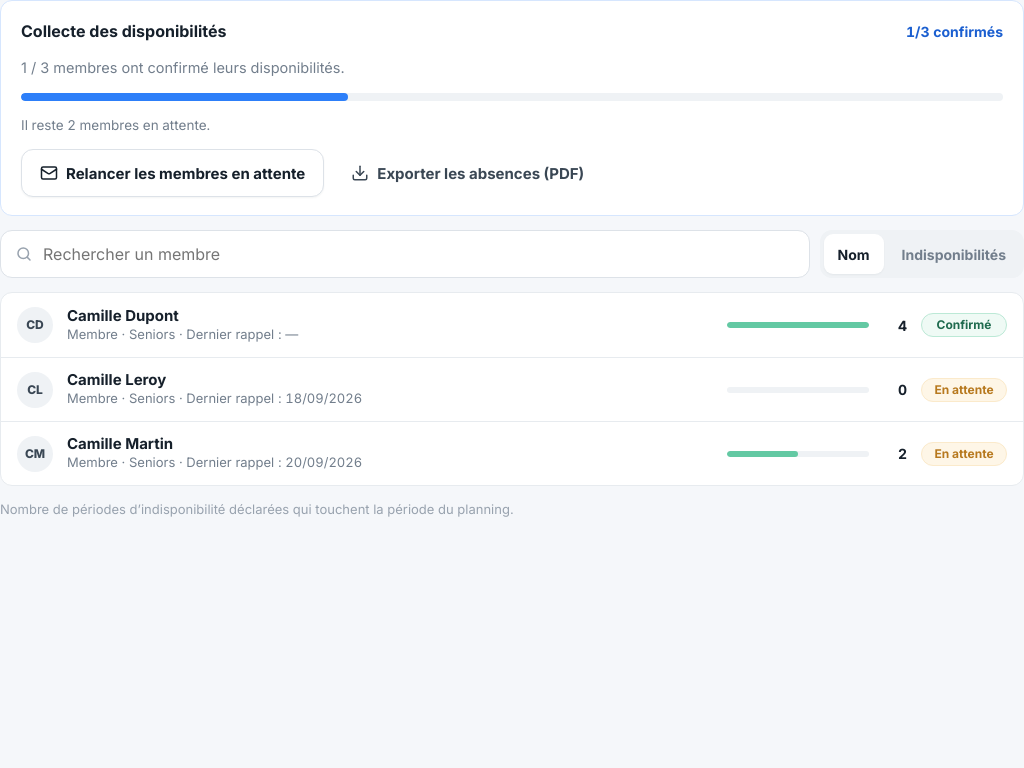
Test: CollectionStatusPanel — member drawer › opens on a click, shows identity, collection state and the period unavailabilities, and closes
This screenshot has width=1024, height=768.
Click the button "Camille Dupont": (123, 315) [67, 306, 179, 325]
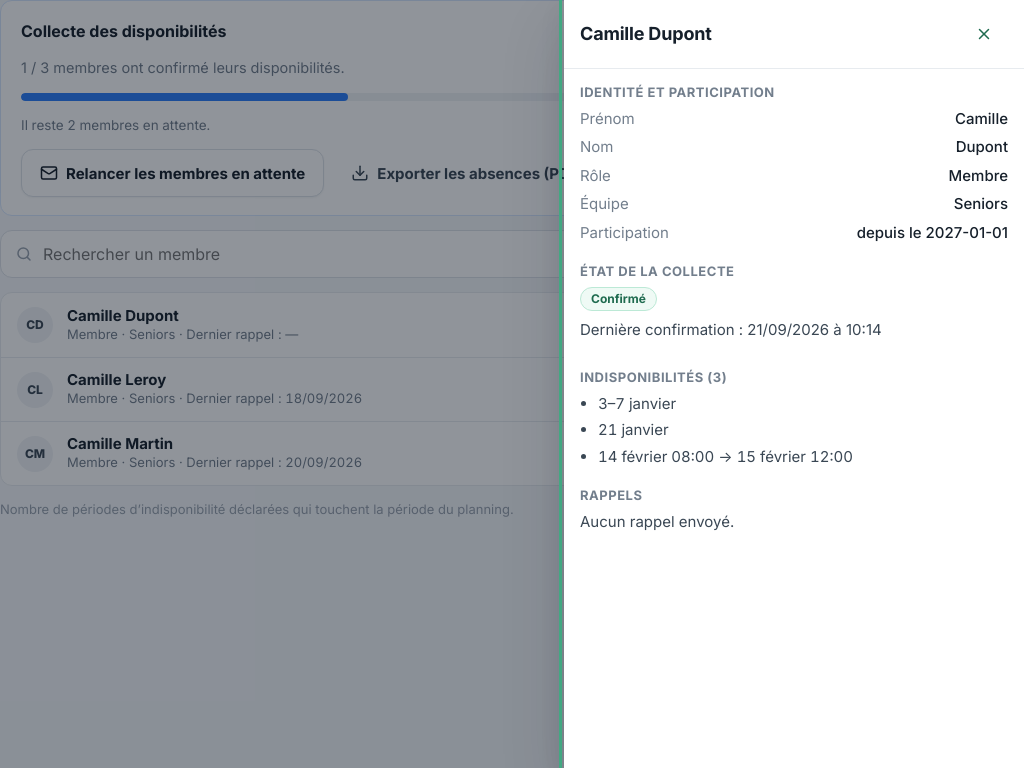
Result: the heading "Indisponibilités (3)" is shown at [580, 369, 727, 385]
Result: the text "Membre" is shown at [949, 165, 1008, 187]
Result: the text "Seniors" is shown at [954, 193, 1008, 216]
Click the button named "Fermer le panneau": (984, 34) [960, 14, 1008, 54]
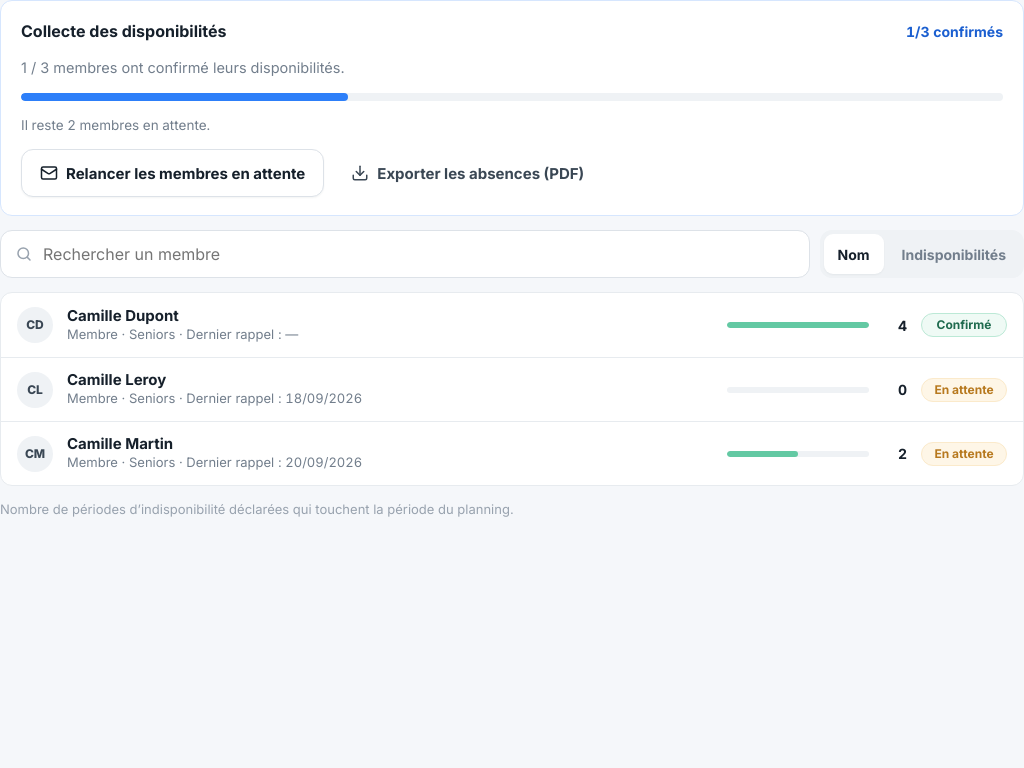
Result: the dialog is gone
